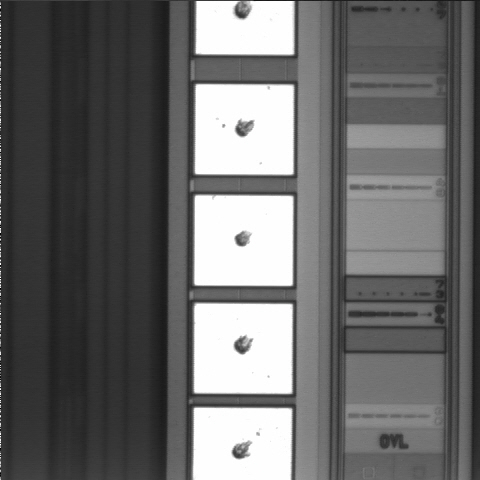pad: (195, 84, 294, 175), (194, 195, 293, 286), (194, 303, 292, 394)
